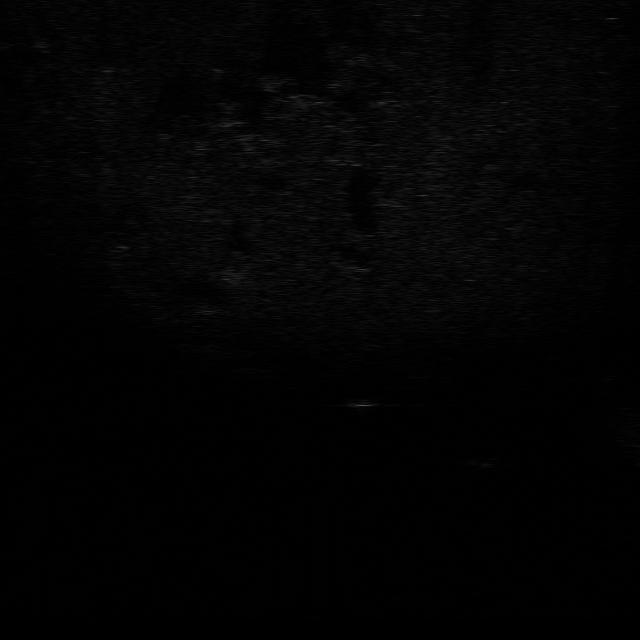square cage: (341, 392, 381, 412)
